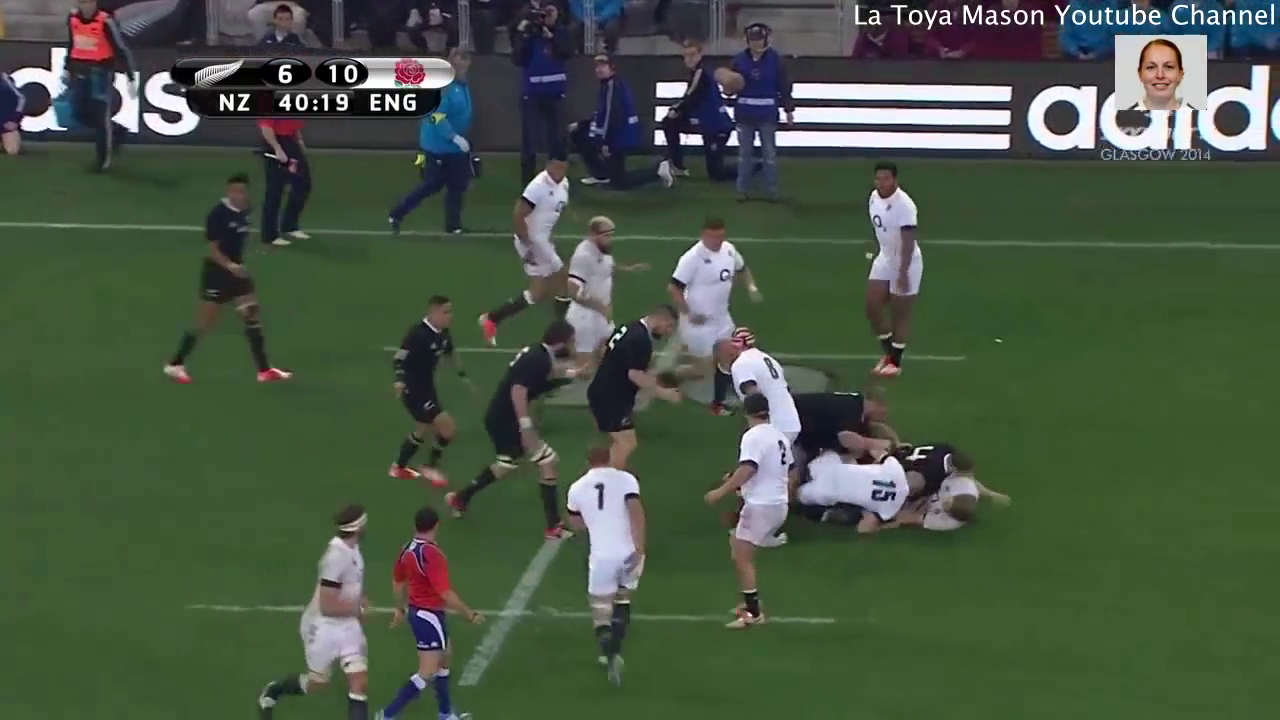player: (158, 164, 297, 399), (243, 503, 385, 719), (442, 309, 577, 536), (702, 395, 799, 641), (474, 144, 586, 345), (555, 445, 650, 680), (377, 504, 479, 720), (378, 285, 469, 505), (849, 157, 933, 384), (585, 305, 678, 497), (664, 212, 769, 360), (557, 205, 641, 386), (791, 443, 931, 527), (757, 384, 890, 440)
ruck: (775, 392, 1000, 553)
